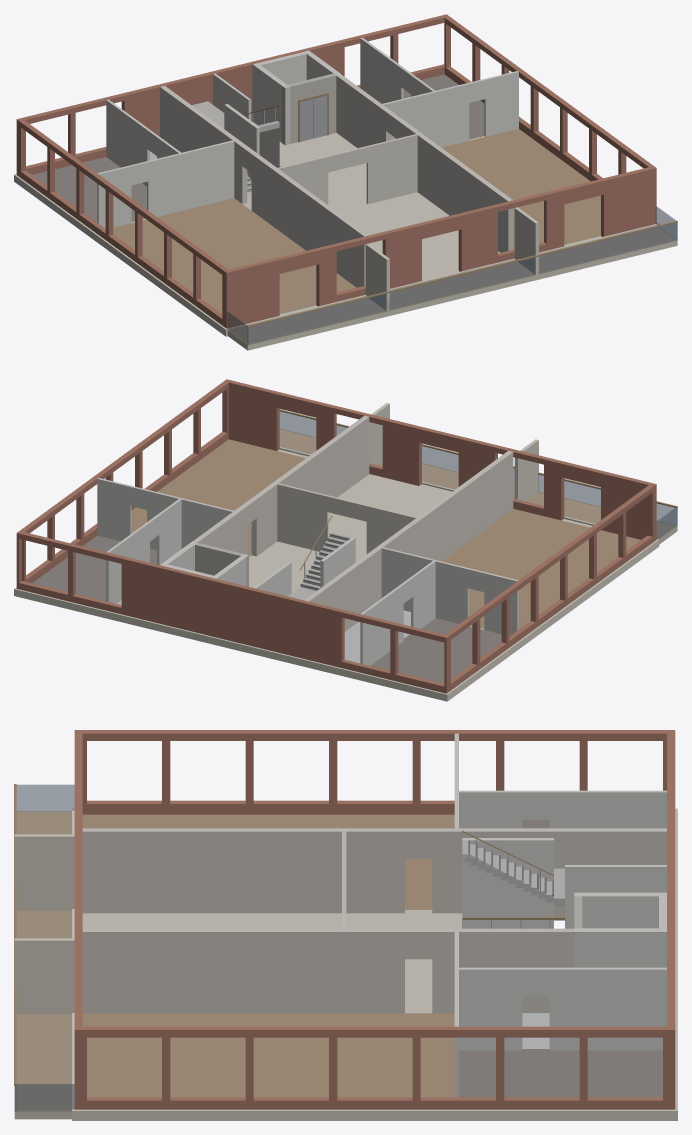
Rendered from brick-floor.zfix-v3.lod0.glb.
3 renders of one model, top to bottom at view 1: azimuth 30°, elevation 25°; view 2: azimuth 150°, elevation 25°; view 3: azimuth 270°, elevation 25°, orthographic. The views are drawn at different scales.
Parts seen in each view (by area): view 1: brick-floor; view 2: brick-floor; view 3: brick-floor.
Boxes of the visible parts, <box> form: brick-floor: <box>14,14,677,350</box>; brick-floor: <box>14,379,677,701</box>; brick-floor: <box>14,730,677,1120</box>.
Size of the model in its own units: 26.2 by 4.89 by 24.32.
